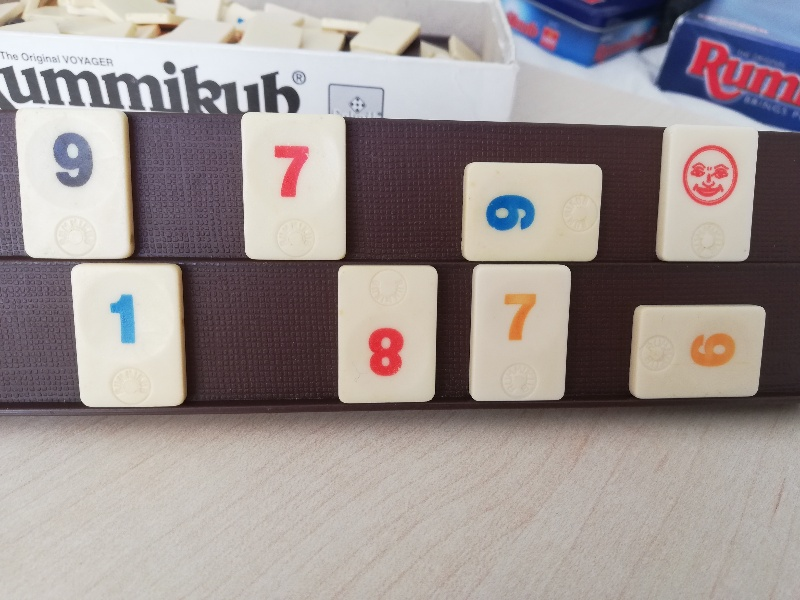1: (69, 261, 184, 409)
7: (240, 109, 350, 258), (470, 265, 566, 404)
8: (336, 264, 439, 404)
9: (15, 108, 130, 257), (461, 161, 602, 261), (631, 303, 765, 397)
joker: (662, 123, 754, 265)
